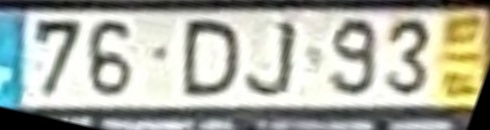3: (378, 14, 434, 100)
6: (84, 17, 138, 102)
7: (29, 18, 85, 102)
9: (323, 16, 382, 100)
D: (175, 18, 247, 102)
J: (238, 17, 300, 101)
